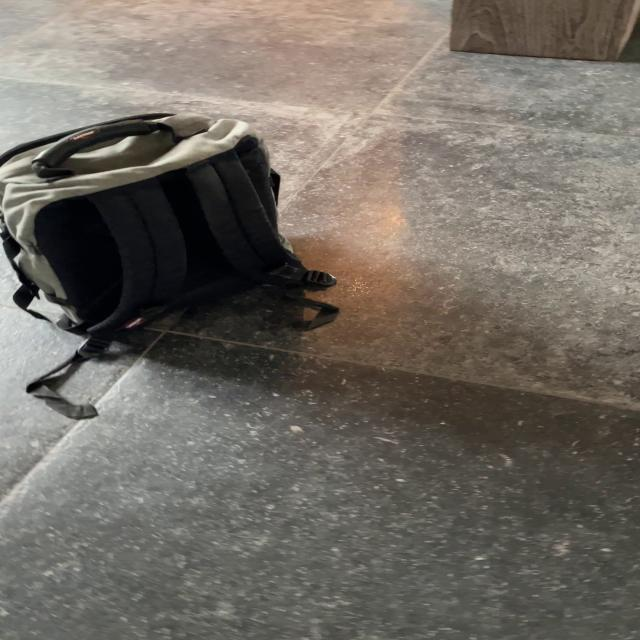backpack: (3, 105, 332, 352)
